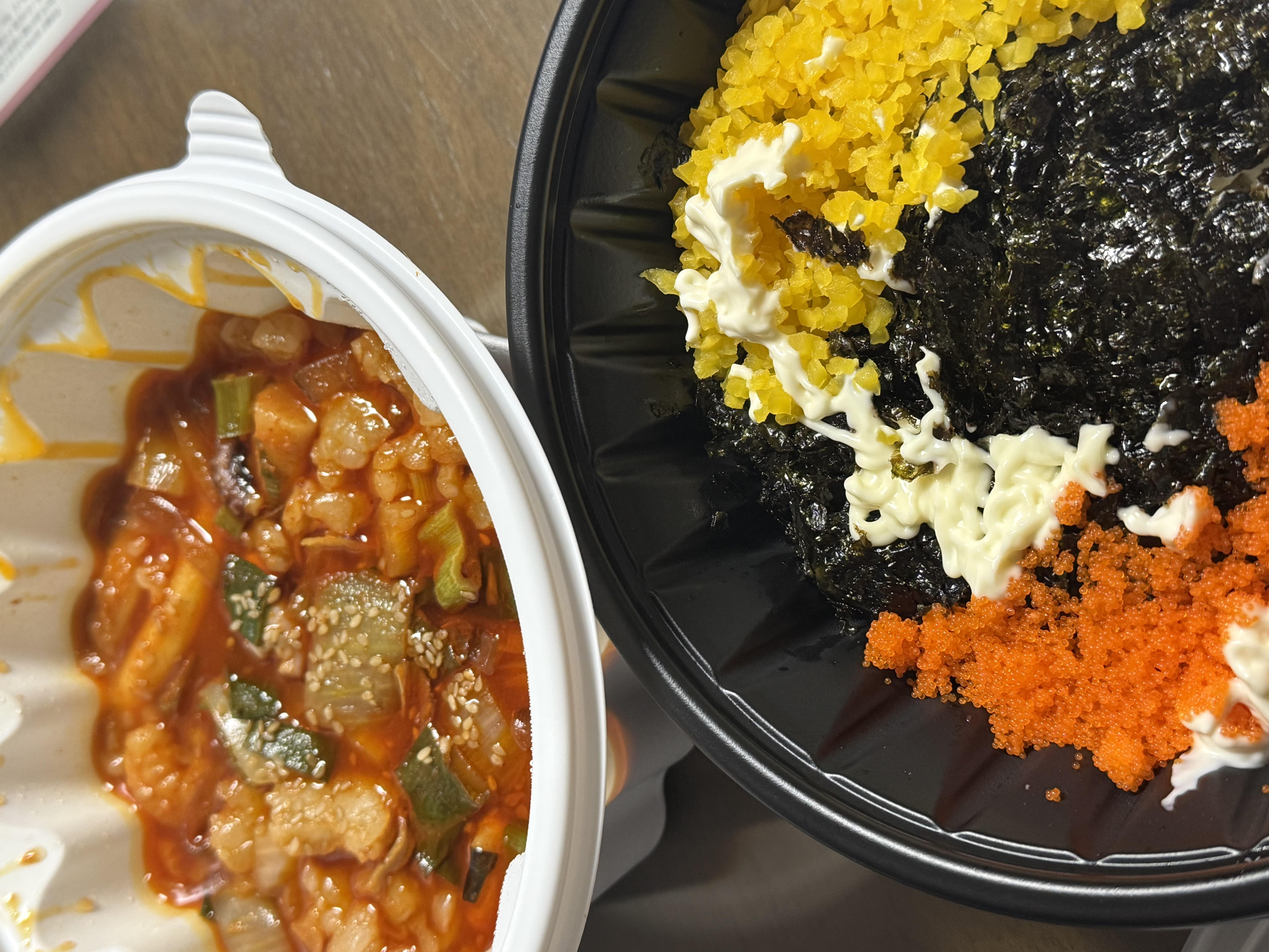Lunch Box: (35, 383, 1269, 952), (0, 0, 1148, 518)
